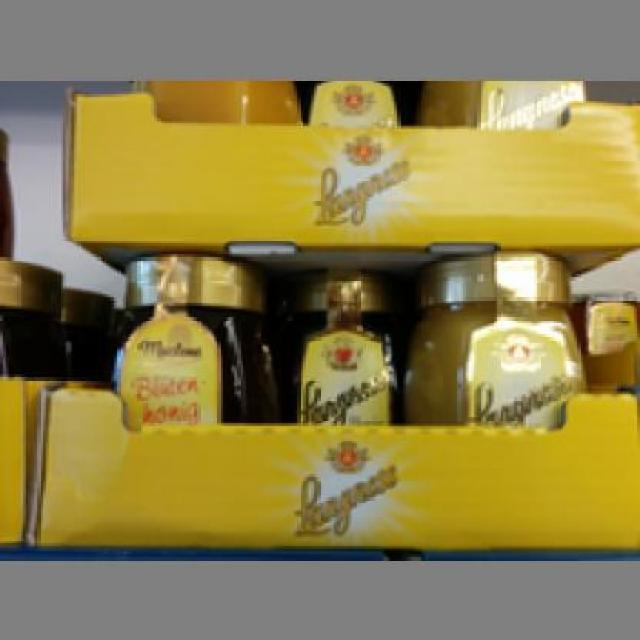Honey: (410, 248, 586, 428), (111, 251, 278, 423), (286, 271, 403, 424)
